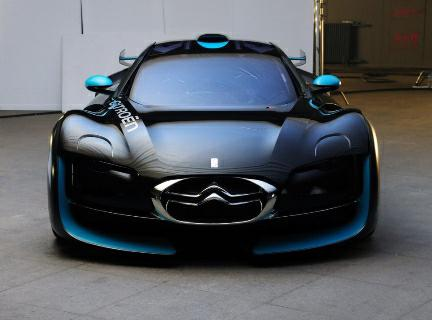雪铁龙-Survolt: (43, 30, 388, 267)
